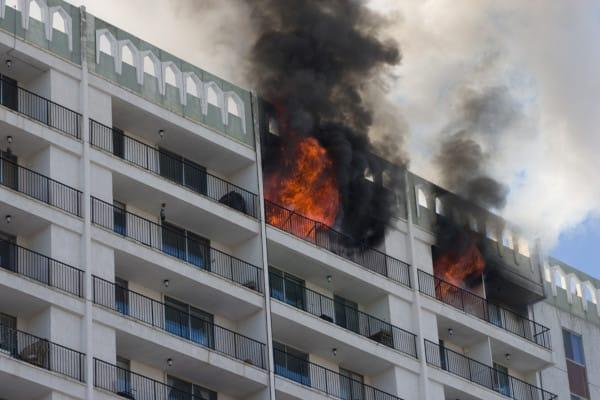fire: (285, 153, 335, 221)
smoke: (283, 1, 378, 151), (443, 143, 502, 257), (339, 146, 379, 229)
